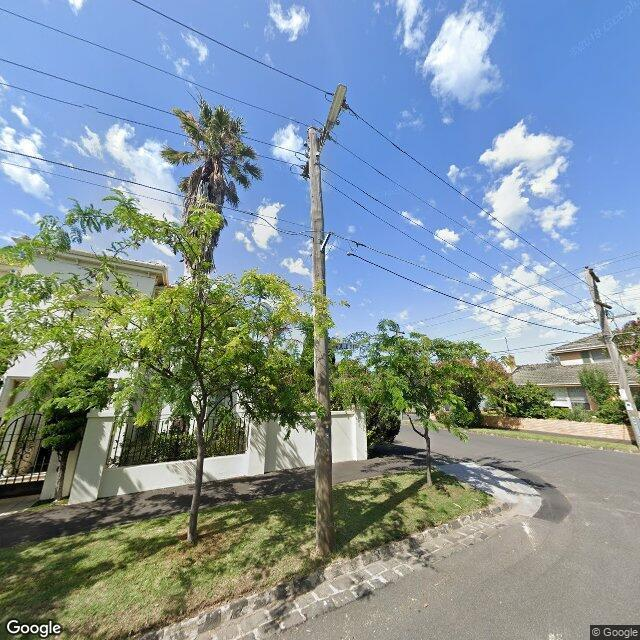crossarm: (576, 311, 636, 325), (320, 232, 330, 250), (594, 300, 612, 309), (589, 269, 600, 282), (302, 159, 309, 178)
streetlight: (314, 83, 347, 165)
timber-pole: (308, 127, 335, 556), (584, 268, 640, 450)
